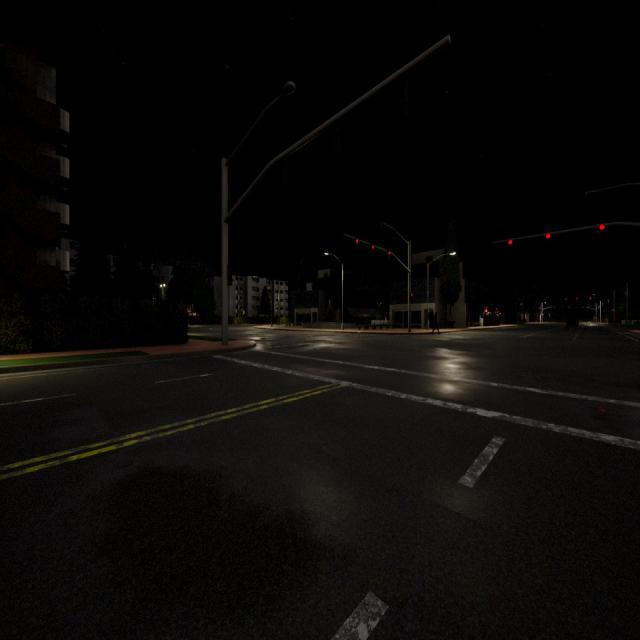Pedestrian: (431, 310, 441, 336)
Vehicle: (566, 316, 579, 328)
traffic_light: (398, 68, 412, 121), (332, 114, 345, 158), (280, 154, 290, 190), (227, 264, 234, 286), (409, 292, 413, 304), (599, 223, 605, 230), (508, 239, 513, 246), (546, 232, 550, 239), (355, 238, 359, 244), (372, 244, 374, 250), (388, 250, 390, 256), (612, 309, 614, 314), (590, 296, 592, 300), (565, 298, 567, 301), (576, 297, 578, 300)
